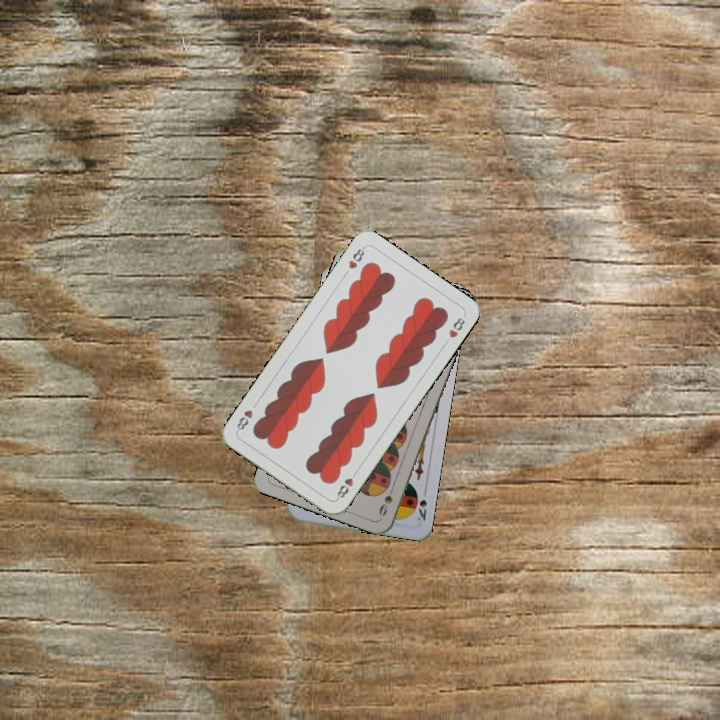H8: (333, 466, 360, 502), (344, 243, 368, 271)
S9: (375, 480, 397, 519)
SK: (413, 484, 430, 524)
